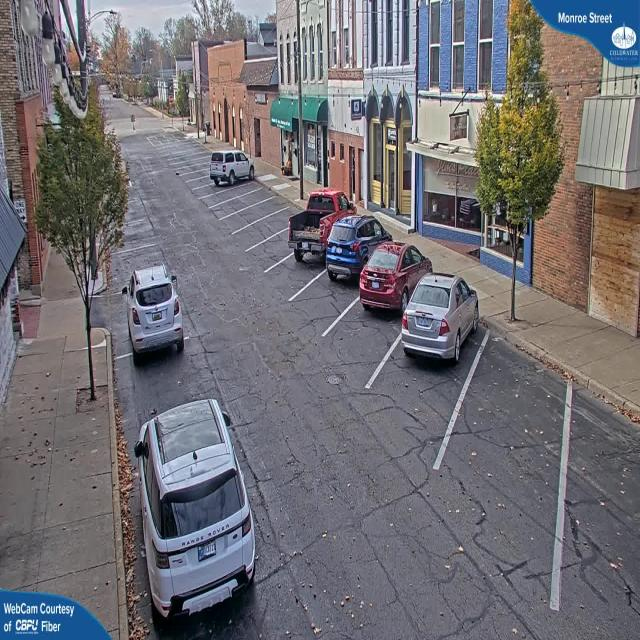available: (458, 329, 576, 454), (557, 402, 640, 547), (124, 328, 212, 407), (245, 234, 297, 266), (234, 217, 278, 242), (214, 195, 260, 215), (207, 187, 246, 206), (220, 210, 261, 224)
occupied: (135, 404, 257, 605), (400, 270, 478, 365), (123, 264, 185, 362), (324, 212, 390, 283), (355, 242, 405, 326), (294, 198, 329, 264), (209, 147, 253, 186)
